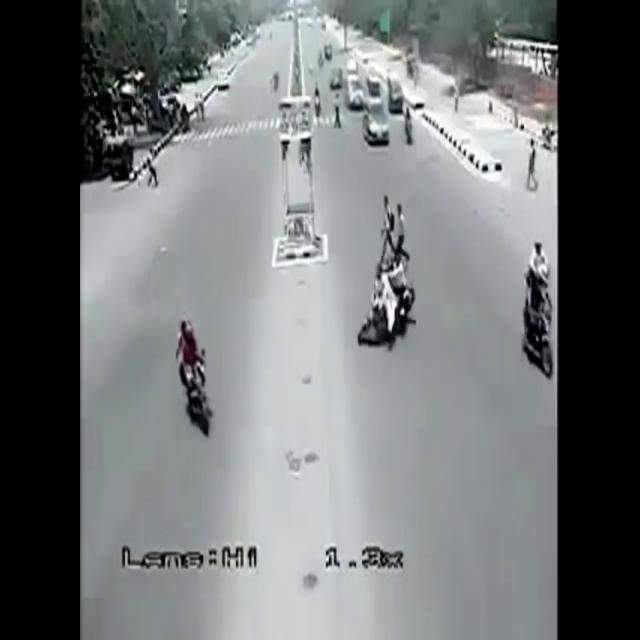accident: (359, 286, 415, 342)
non-accident: (347, 76, 391, 144)
